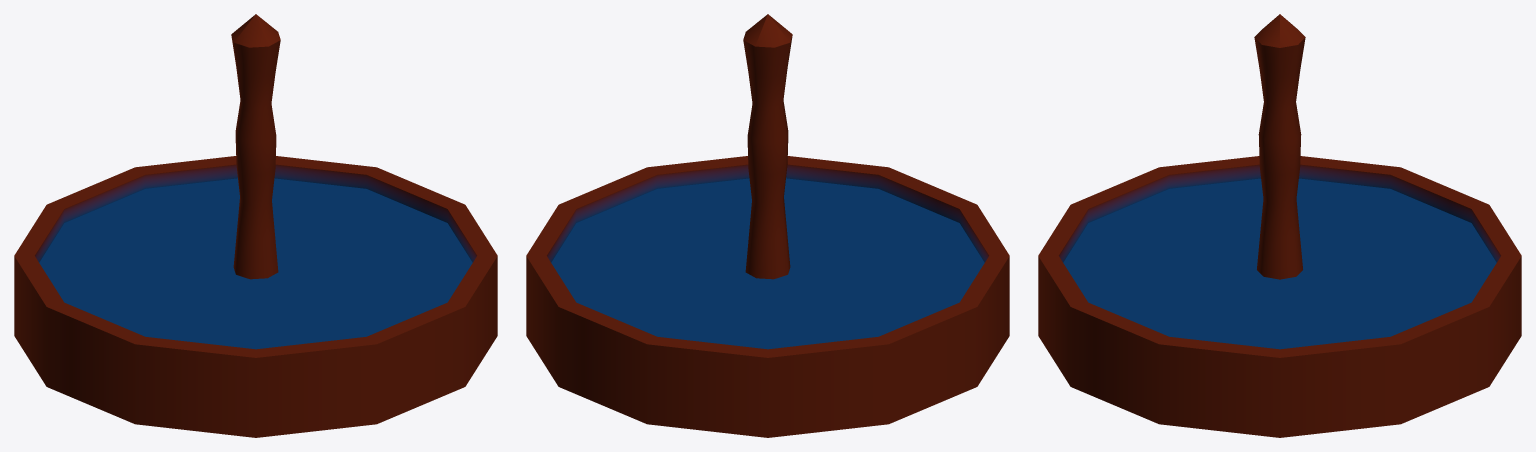
File: M_Fountain_01.fbx
The picture shows the model from 3 angles, left to right: view 1: azimuth 30°, elevation 25°; view 2: azimuth 150°, elevation 25°; view 3: azimuth 270°, elevation 25°; orthographic projection.
Parts seen in each view (by area): view 1: transform33; view 2: transform33; view 3: transform33.
Part boxes in pixels (<box>): transform33: <box>14,14,497,437</box>; transform33: <box>526,14,1009,437</box>; transform33: <box>1038,14,1521,437</box>.
Size of the model in its own units: 1 by 0.7343 by 1.
